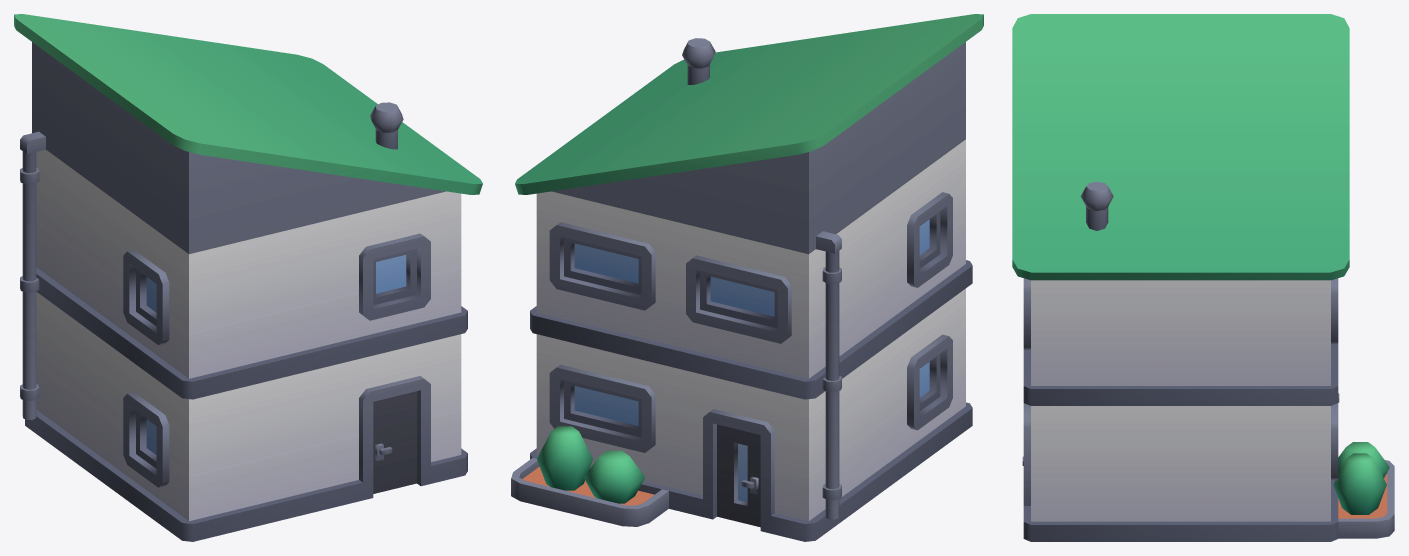
File: sub-building-type-k.glb
3 views of the same model, side by side, from view 1: azimuth 30°, elevation 25°; view 2: azimuth 150°, elevation 25°; view 3: azimuth 270°, elevation 25° (orthographic). The views are drawn at different scales.
Parts seen in each view (by area): view 1: building-type-k; view 2: building-type-k; view 3: building-type-k.
Part boxes in pixels (box(x1,y1,x2,y2)): building-type-k: box(14, 14, 482, 541); building-type-k: box(511, 14, 983, 541); building-type-k: box(1012, 14, 1394, 541).
Bounding box in the file's own units: 9.21 × 11.5 × 10.2.
Materials: 1 (1 with a texture image).
